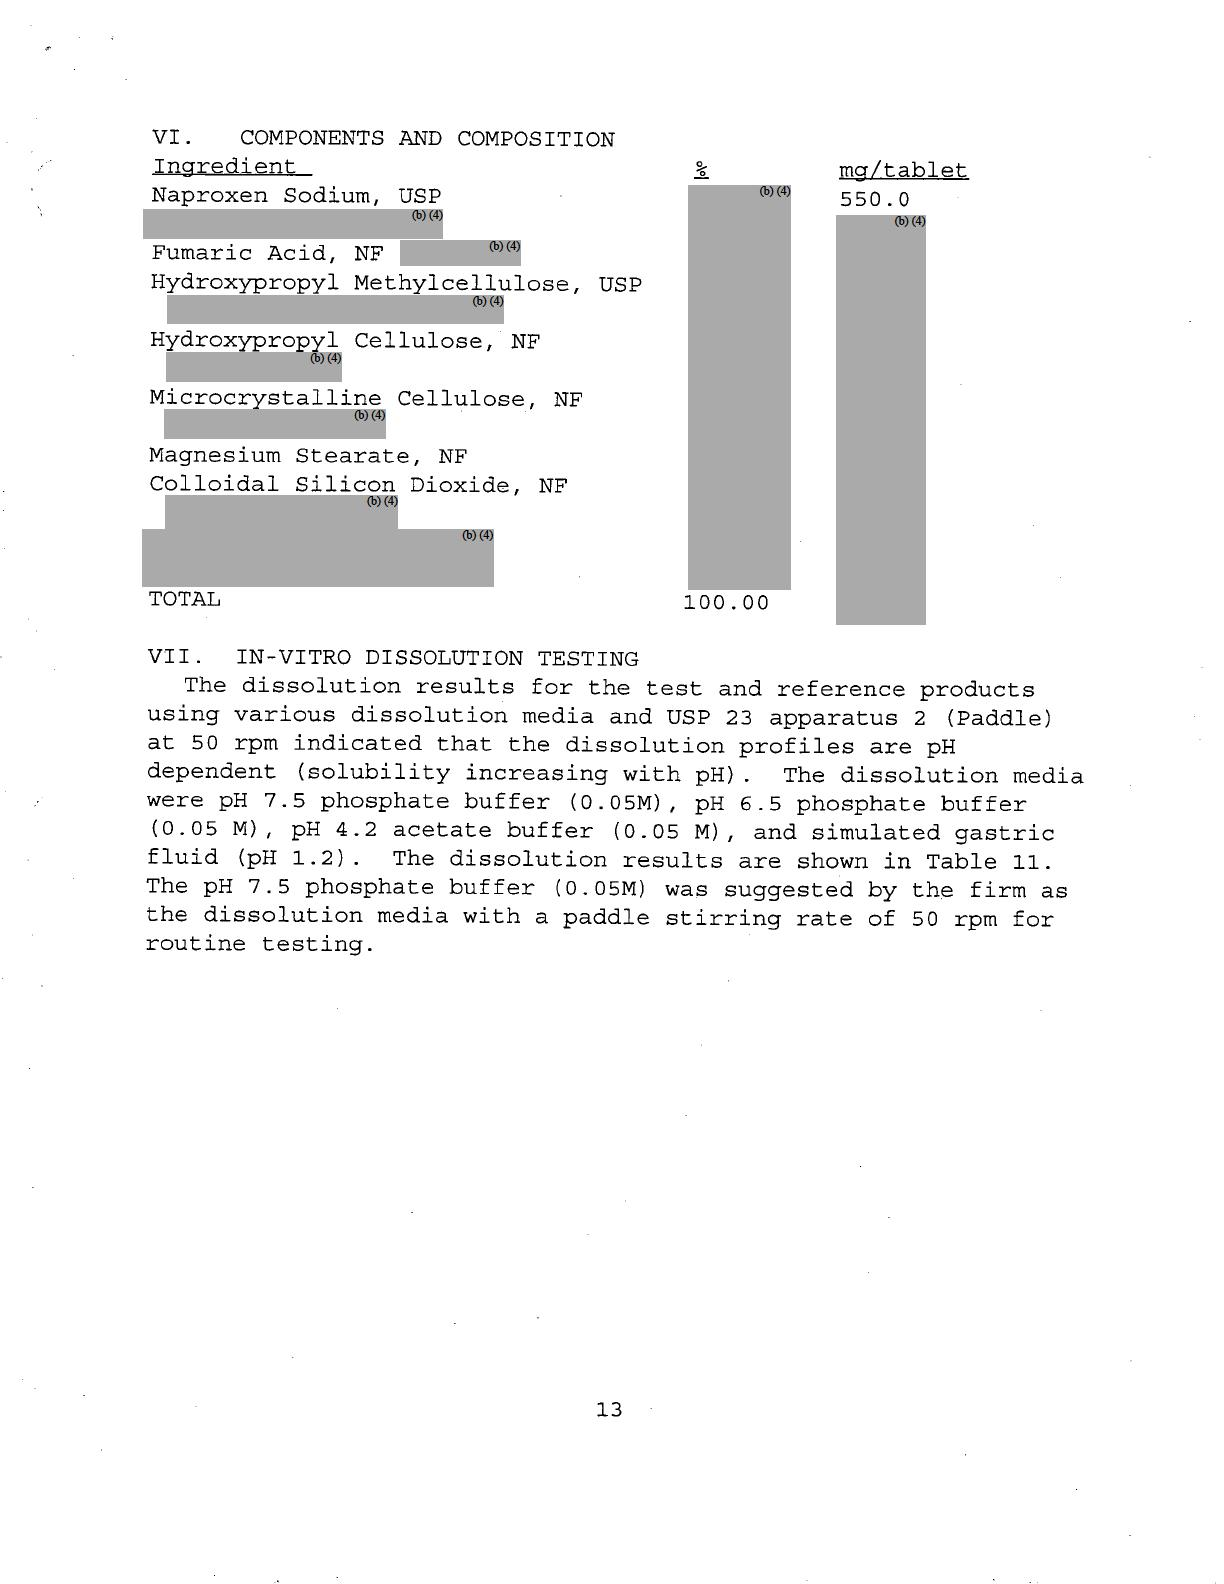nolines: (144, 156, 969, 621)
